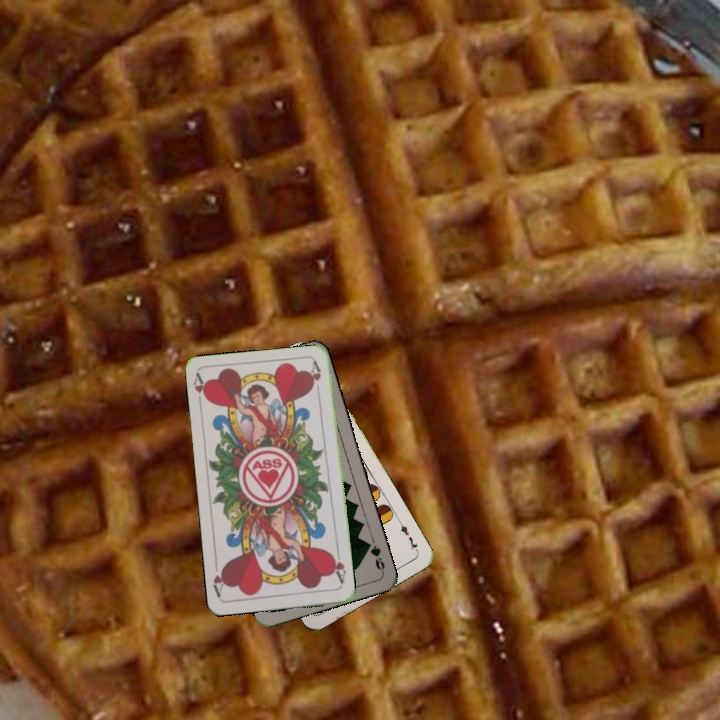E7: (395, 517, 421, 554)
G9: (362, 538, 387, 575)
HA: (189, 371, 211, 411), (327, 547, 348, 587)
